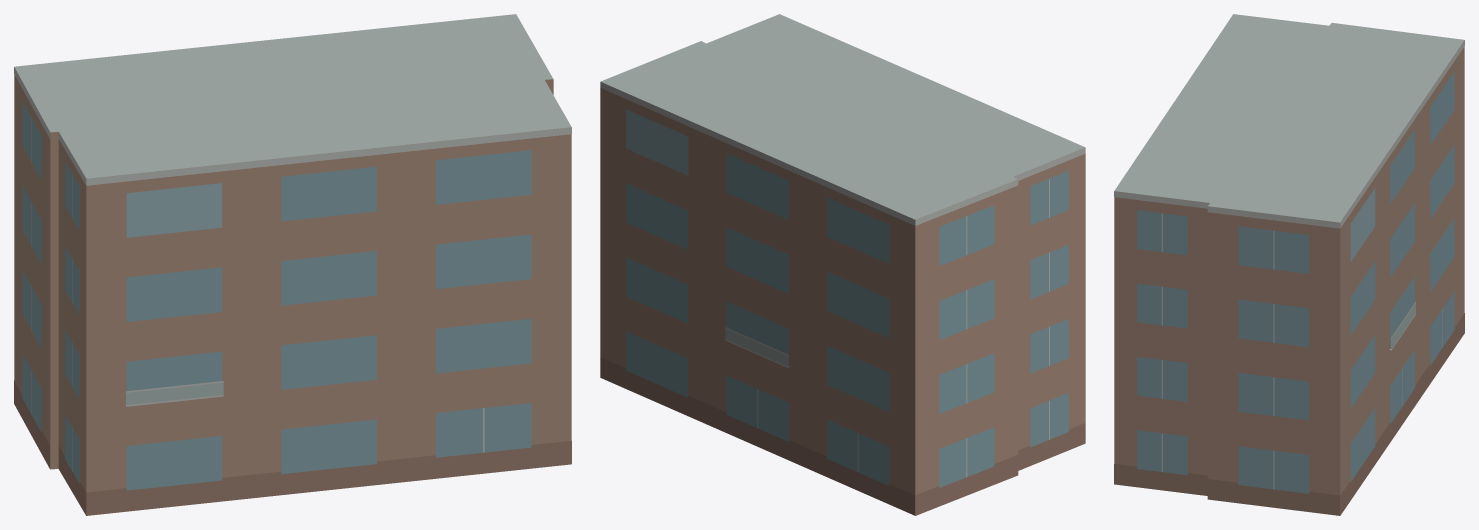
File: survey-upis-32878356.glb
The picture shows the model from 3 angles, left to right: view 1: azimuth 30°, elevation 25°; view 2: azimuth 150°, elevation 25°; view 3: azimuth 270°, elevation 25°; orthographic projection. The views are drawn at different scales.
Parts seen in each view (by area): view 1: survey-upis-32878356.tmp; view 2: survey-upis-32878356.tmp; view 3: survey-upis-32878356.tmp.
Part boxes in pixels (bbox=[...]): survey-upis-32878356.tmp: bbox=[14, 14, 571, 515]; survey-upis-32878356.tmp: bbox=[600, 14, 1085, 515]; survey-upis-32878356.tmp: bbox=[1114, 14, 1464, 515].
Size of the model in its own units: 18.01 by 11.8 by 12.8.
